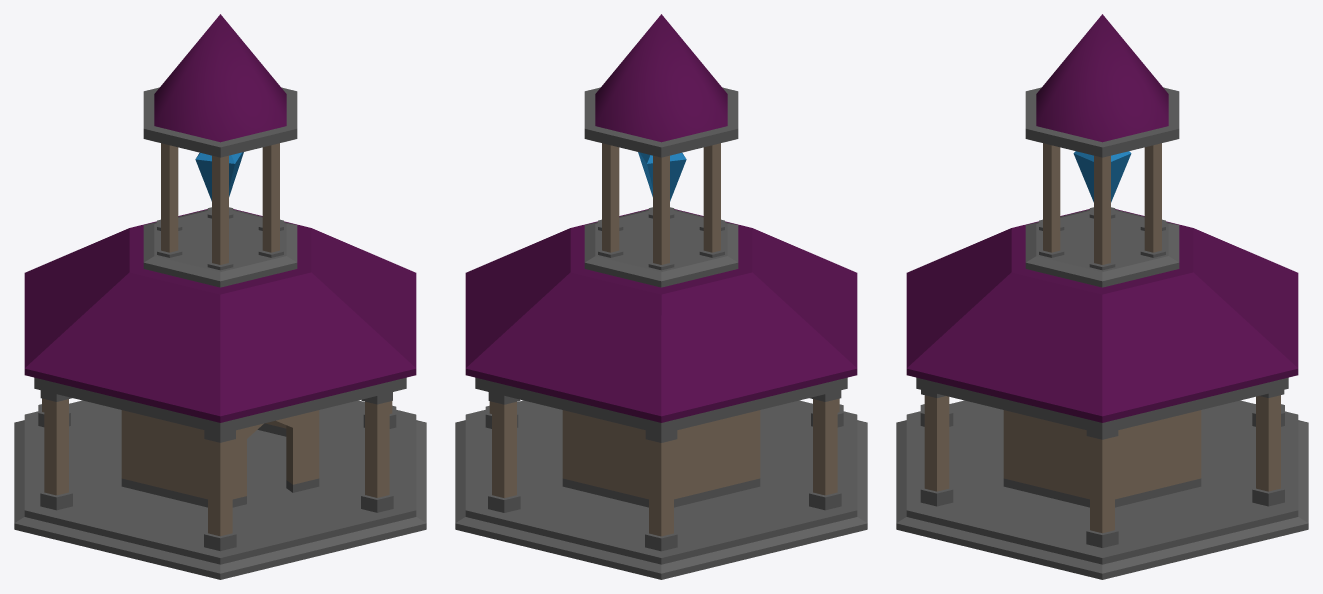
File: townhall.fbx
3 views of the same model, side by side, from view 1: azimuth 30°, elevation 25°; view 2: azimuth 150°, elevation 25°; view 3: azimuth 270°, elevation 25° (orthographic).
Visible parts, largest first — view 1: townhall; view 2: townhall; view 3: townhall.
Part boxes in pixels (x1,y1,x2,y2): townhall: (14,14,426,579); townhall: (455,14,867,579); townhall: (896,14,1308,579).
Size of the model in its own units: 1705 by 1838 by 1477.
